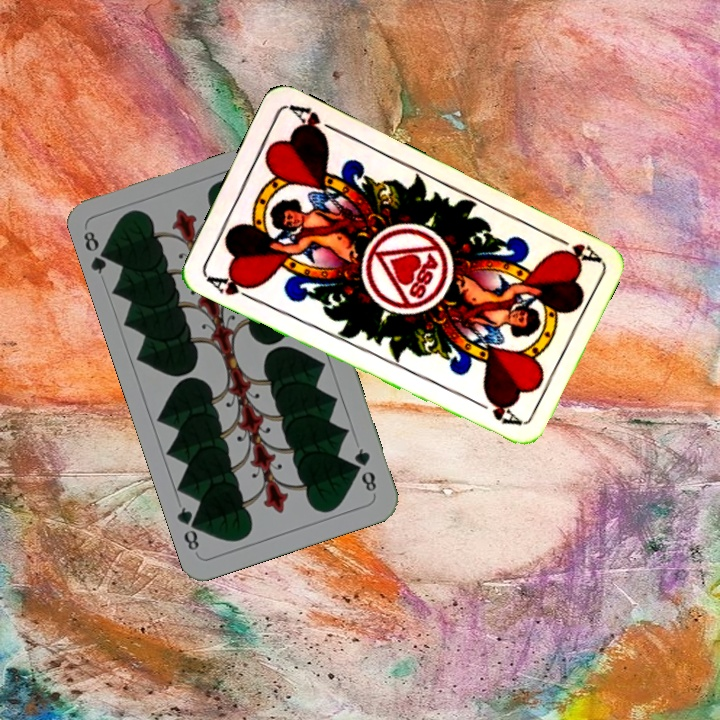G8: (79, 227, 115, 277), (350, 444, 379, 495)
HA: (201, 269, 259, 304), (546, 230, 602, 266)
